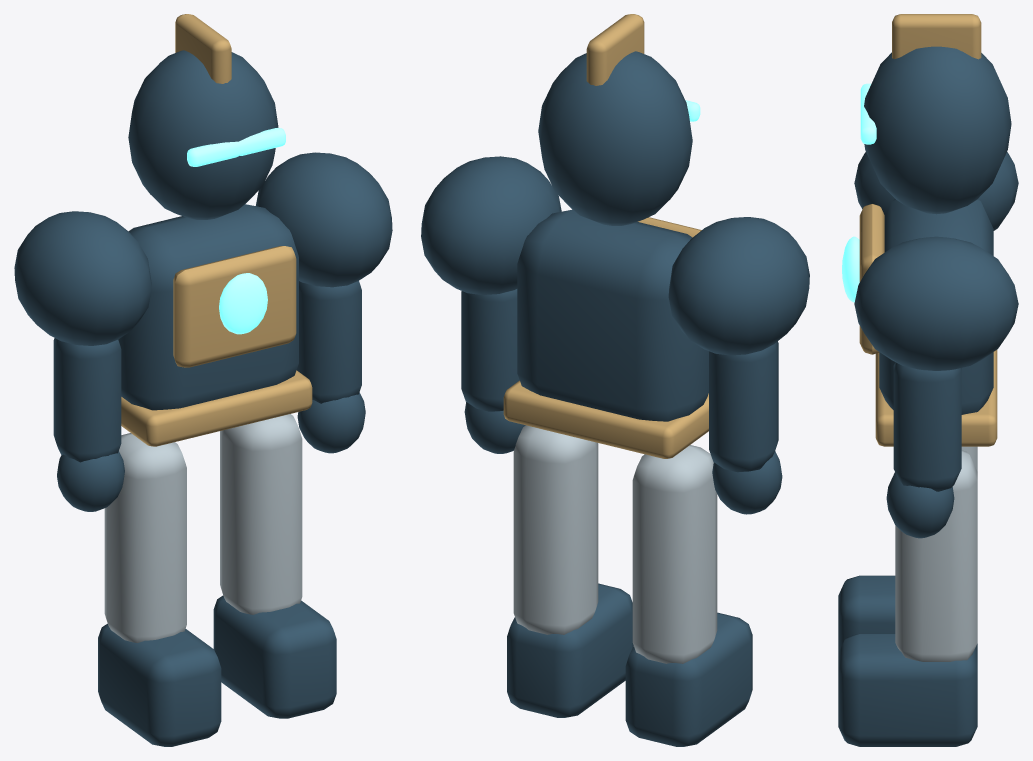
File: aether_sentinel.glb
The picture shows the model from 3 angles, left to right: view 1: azimuth 30°, elevation 25°; view 2: azimuth 150°, elevation 25°; view 3: azimuth 270°, elevation 25°; orthographic projection. The views are drawn at different scales.
Visible parts, largest first — view 1: head, torso, right_leg_mesh, left_leg_mesh, left_pauldron, right_pauldron, left_boot, right_boot, chest_plate, left_forearm, right_forearm, belt (+5 smaller); view 2: torso, head, left_leg_mesh, right_leg_mesh, left_pauldron, right_pauldron, left_boot, right_boot, left_forearm, belt, right_forearm, left_hand (+2 smaller); view 3: head, right_pauldron, right_boot, right_leg_mesh, right_forearm, torso, left_boot, crest, right_hand, left_pauldron, belt, chest_plate (+2 smaller).
Boxes of the visible parts, x1,y1,x2,y2 form: head: (128, 50, 278, 219); torso: (118, 204, 298, 410); right_leg_mesh: (220, 414, 302, 614); left_leg_mesh: (104, 433, 186, 642); left_pauldron: (14, 211, 151, 345); right_pauldron: (256, 152, 392, 287); left_boot: (98, 623, 221, 746); right_boot: (213, 595, 336, 718); chest_plate: (173, 246, 296, 367); left_forearm: (53, 338, 121, 462); right_forearm: (296, 281, 361, 403); belt: (121, 370, 312, 446); torso: (517, 209, 708, 421); head: (538, 51, 692, 225); left_leg_mesh: (632, 445, 717, 663); right_leg_mesh: (513, 425, 598, 634); left_pauldron: (668, 217, 809, 355); right_pauldron: (421, 156, 561, 294); left_boot: (625, 612, 752, 746); right_boot: (507, 583, 633, 717); left_forearm: (709, 341, 778, 472); belt: (503, 380, 708, 458); right_forearm: (461, 289, 519, 411); left_hand: (712, 451, 782, 514); head: (864, 46, 1011, 214); right_pauldron: (854, 236, 1018, 370); right_boot: (838, 633, 977, 746); right_leg_mesh: (895, 450, 977, 661); right_forearm: (893, 362, 961, 491); torso: (879, 199, 993, 414); left_boot: (838, 575, 977, 652); crest: (892, 14, 981, 59); right_hand: (886, 472, 954, 538); left_pauldron: (854, 152, 1018, 230); belt: (875, 350, 997, 446); chest_plate: (859, 204, 884, 354).
Size of the model in its own units: 1.39 by 2.53 by 0.5959.
